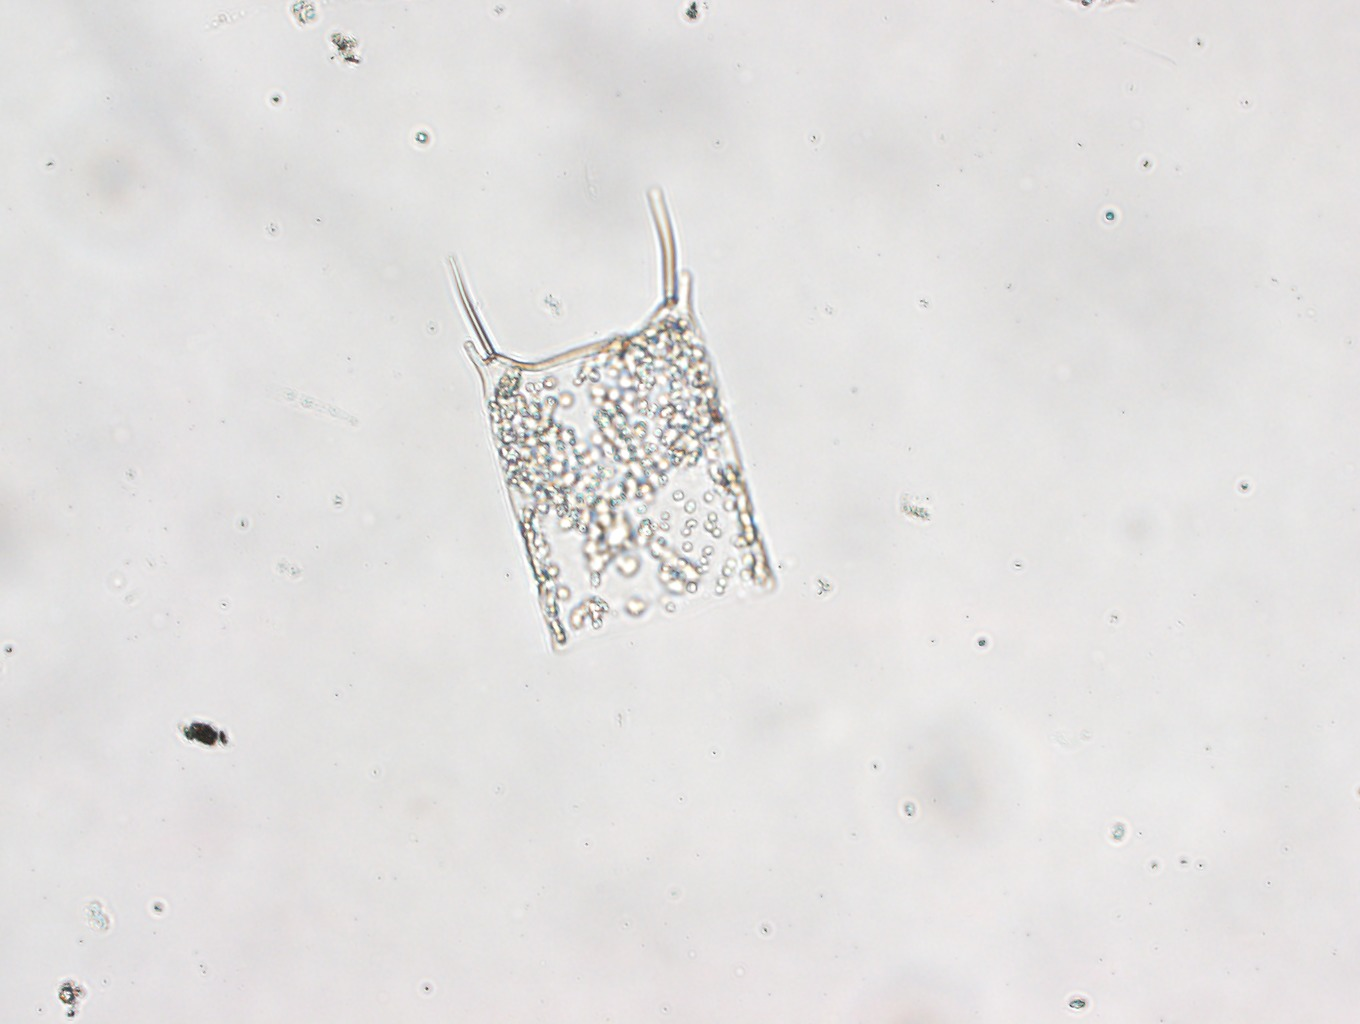biddulphia: (446, 184, 778, 648)
